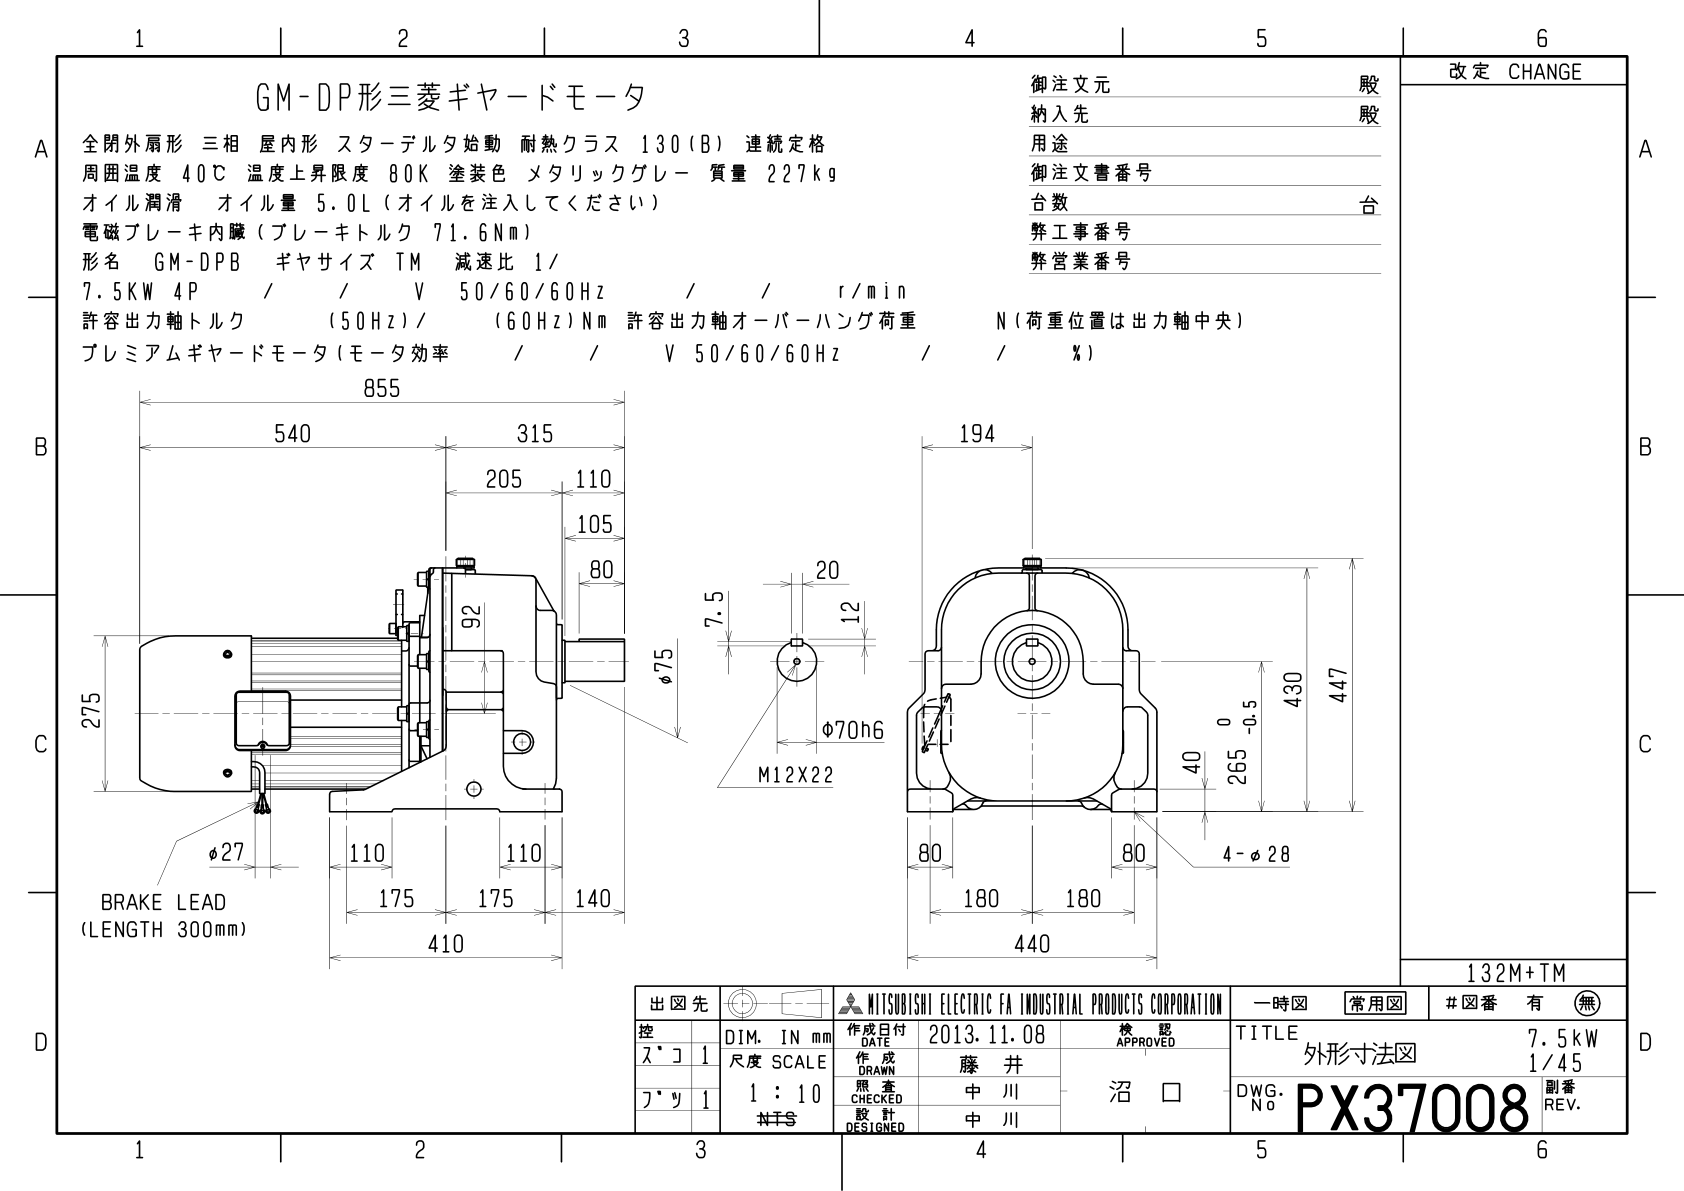GM_DP_屋内_三相_脚: (67, 373, 1383, 969)
